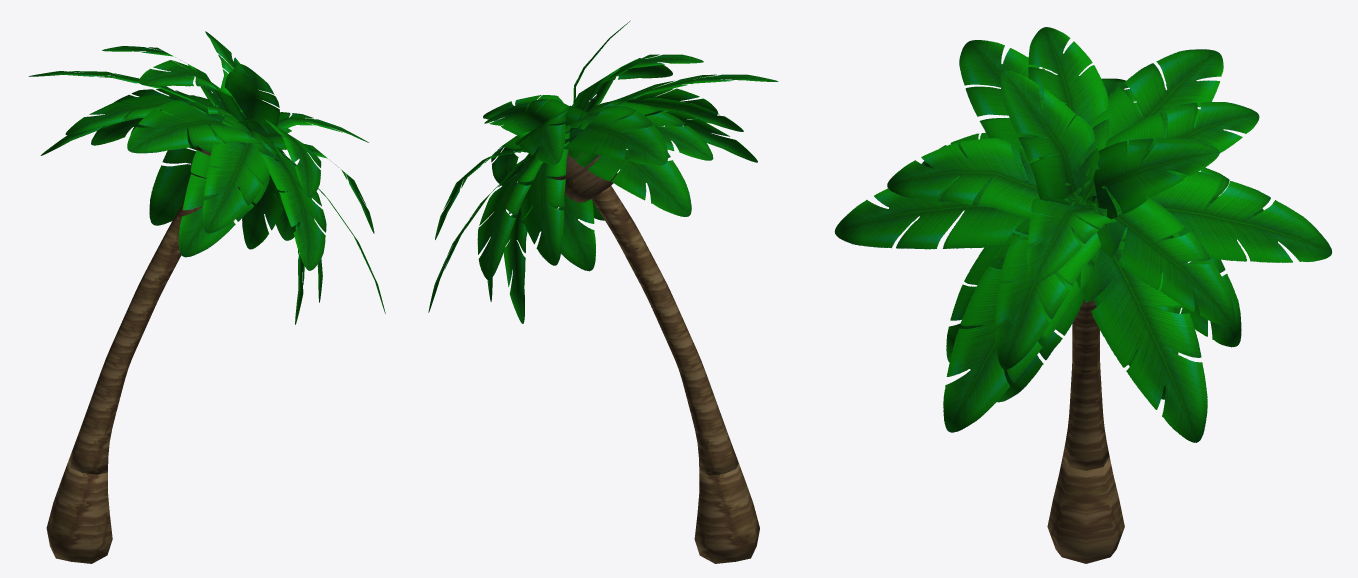
The model's file is PR_Palm_Curve_3.fbx.
3 views of the same model, side by side, from view 1: azimuth 30°, elevation 25°; view 2: azimuth 150°, elevation 25°; view 3: azimuth 270°, elevation 25° (orthographic). The views are drawn at different scales.
Visible parts, largest first — view 1: Palm Leaf.036, Palm Leaf.032, Plane.013, Palm Leaf.034, Plane.018, Palm Leaf.035, Palm Leaf.033; view 2: Palm Leaf.032, Palm Leaf.034, Plane.013, Palm Leaf.036, Palm Leaf.035, Plane.018, Palm Leaf.033, Cube.009; view 3: Palm Leaf.032, Palm Leaf.035, Palm Leaf.033, Plane.018, Plane.013, Palm Leaf.036, Palm Leaf.034.
Part boxes in pixels (<box>): Palm Leaf.036: <box>65,94,322,302</box>; Palm Leaf.032: <box>28,71,385,313</box>; Plane.013: <box>68,202,201,474</box>; Palm Leaf.034: <box>40,109,304,324</box>; Plane.018: <box>46,463,112,563</box>; Palm Leaf.035: <box>102,46,374,233</box>; Palm Leaf.033: <box>205,31,368,148</box>; Palm Leaf.032: <box>428,74,778,312</box>; Palm Leaf.034: <box>503,110,757,323</box>; Plane.013: <box>591,186,738,475</box>; Palm Leaf.036: <box>487,97,743,301</box>; Palm Leaf.035: <box>435,54,703,239</box>; Plane.018: <box>694,463,759,563</box>; Palm Leaf.033: <box>483,20,630,142</box>; Cube.009: <box>555,150,617,202</box>; Palm Leaf.032: <box>834,40,1331,442</box>; Palm Leaf.035: <box>887,27,1259,369</box>; Palm Leaf.033: <box>1000,70,1219,282</box>; Plane.018: <box>1047,457,1124,563</box>; Plane.013: <box>1062,299,1109,470</box>; Palm Leaf.036: <box>922,78,1263,399</box>; Palm Leaf.034: <box>997,115,1241,402</box>.
Bounding box in the file's own units: 1612 × 2497 × 2026.
